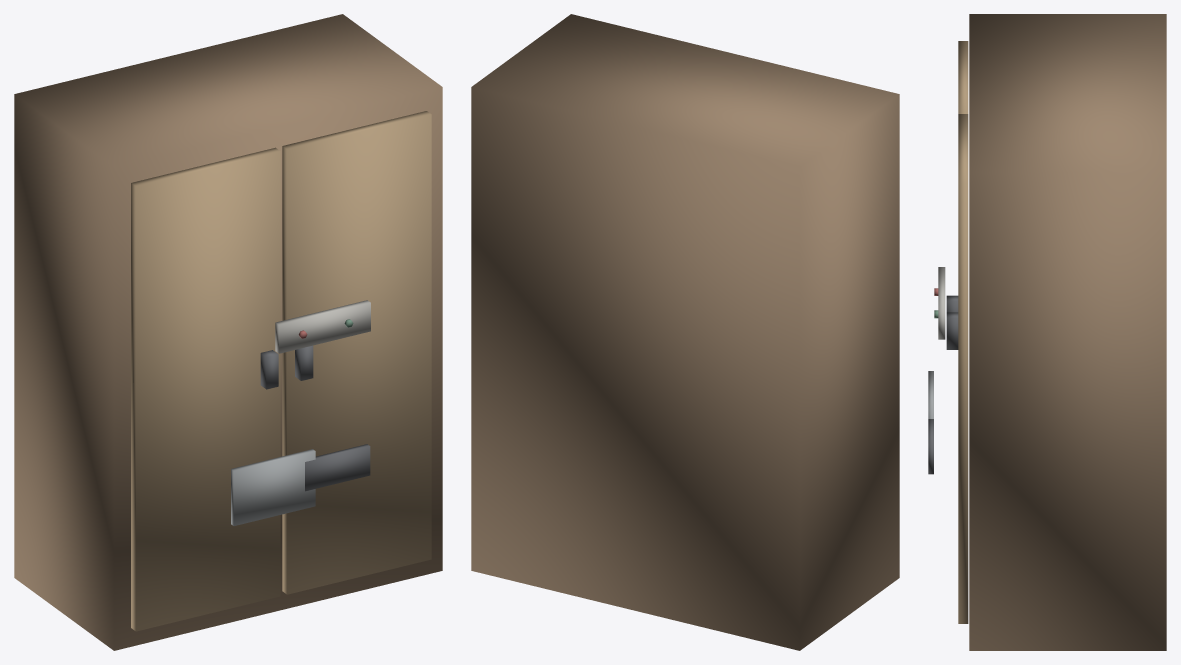
File: evidence_cabinet__weathered.glb
The picture shows the model from 3 angles, left to right: view 1: azimuth 30°, elevation 25°; view 2: azimuth 150°, elevation 25°; view 3: azimuth 270°, elevation 25°; orthographic projection.
Parts seen in each view (by area): view 1: world; view 2: world; view 3: world.
Part boxes in pixels (x1,y1,x2,y2): world: (14, 14, 442, 650); world: (471, 14, 899, 650); world: (928, 14, 1166, 650).
Bounding box in the file's own units: 0.95 × 1.34 × 0.6041.
